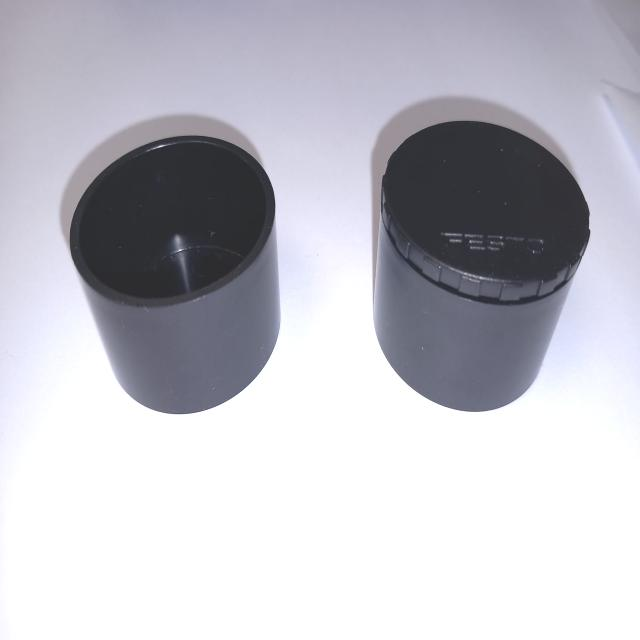NoLid: (50, 96, 318, 424)
Workpiece: (373, 114, 592, 416)
